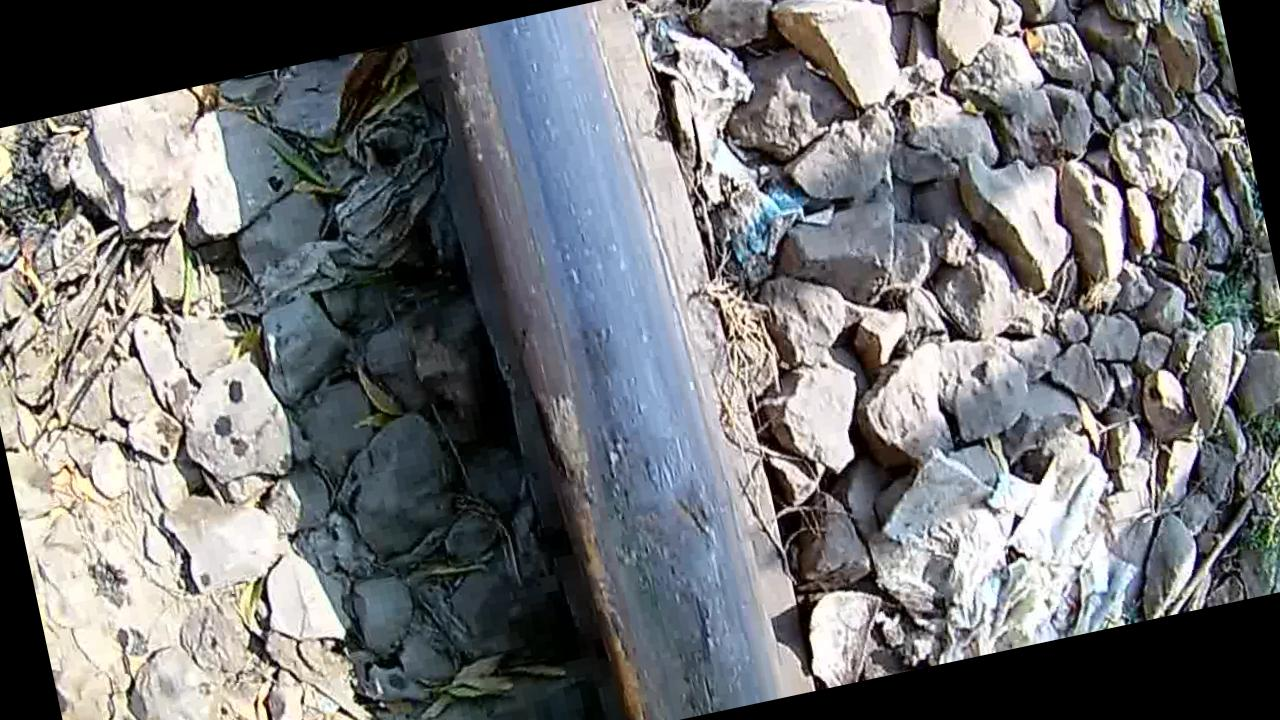bolt_missing: (518, 266, 770, 720)
